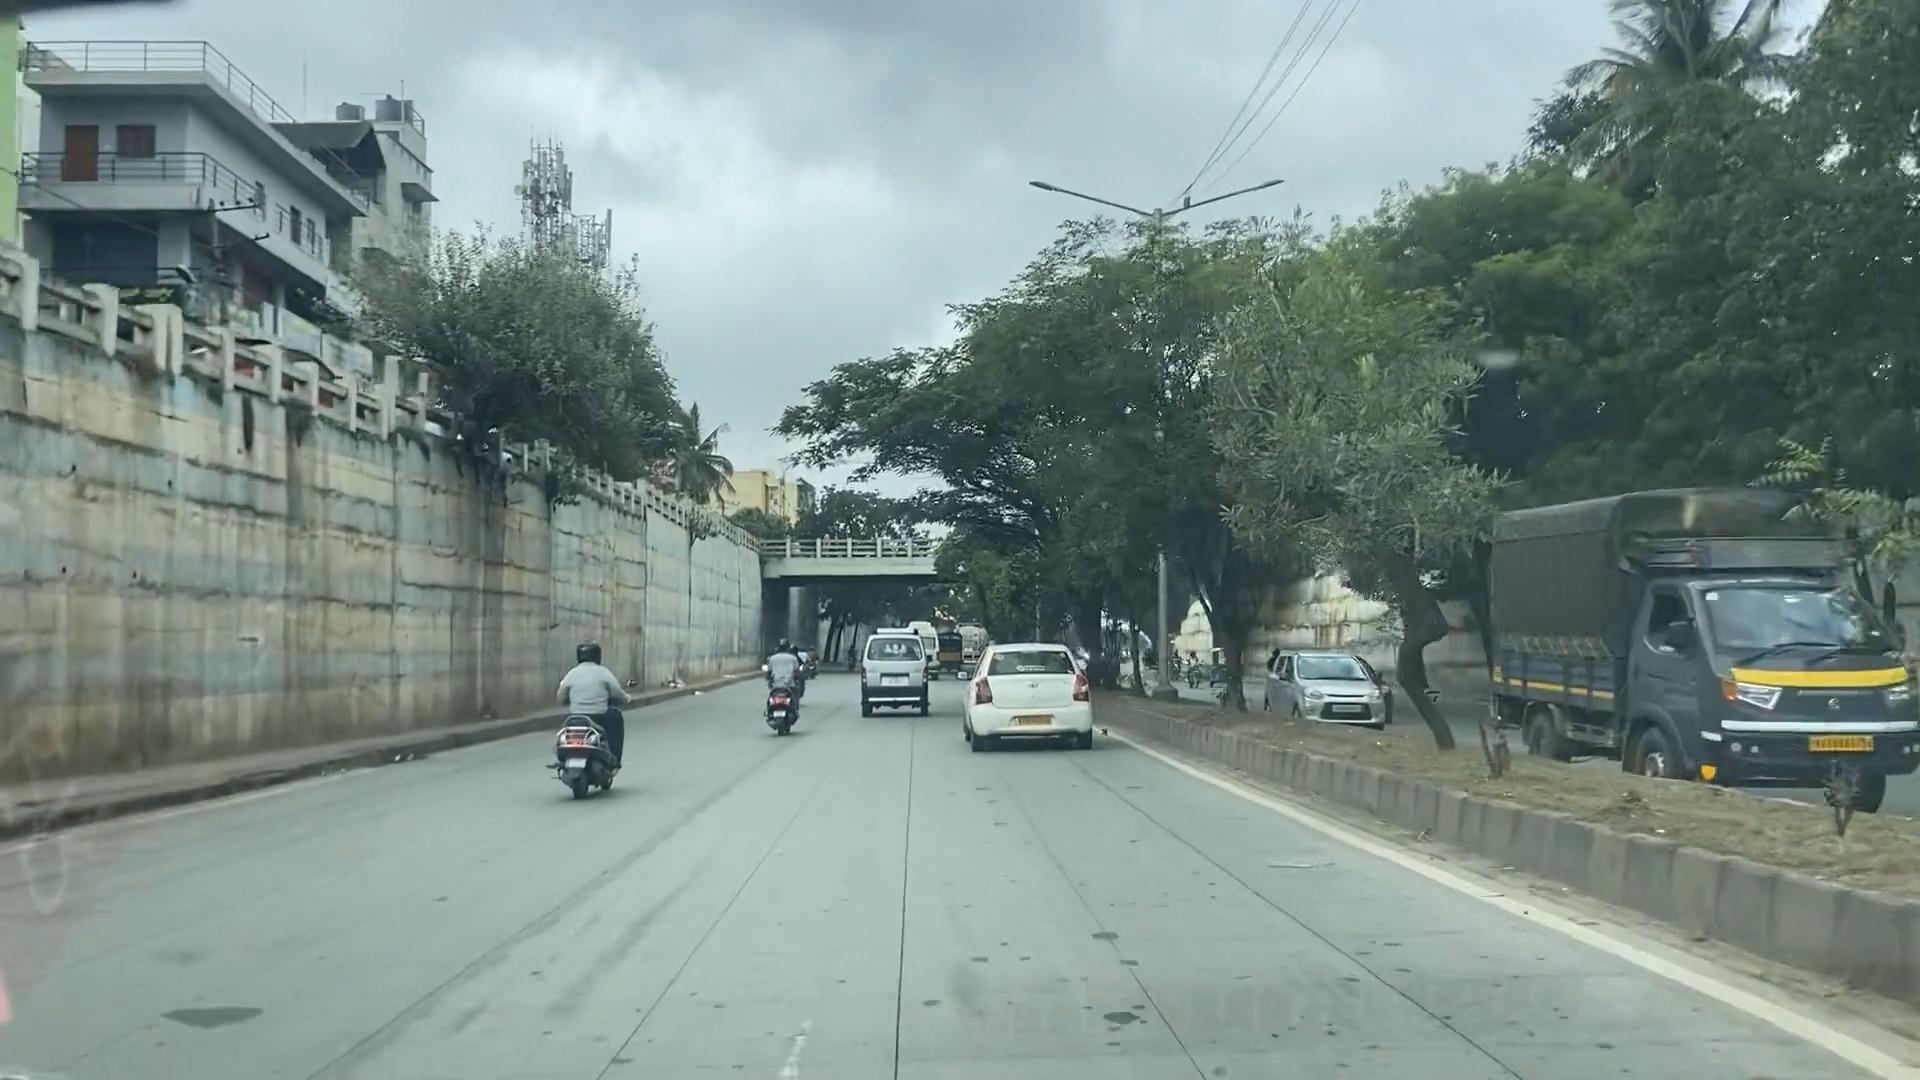LMV: (971, 618, 1093, 762), (553, 630, 632, 802)
